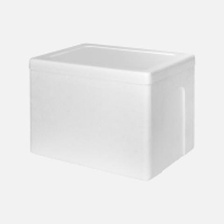foam_box: (21, 38, 200, 184)
